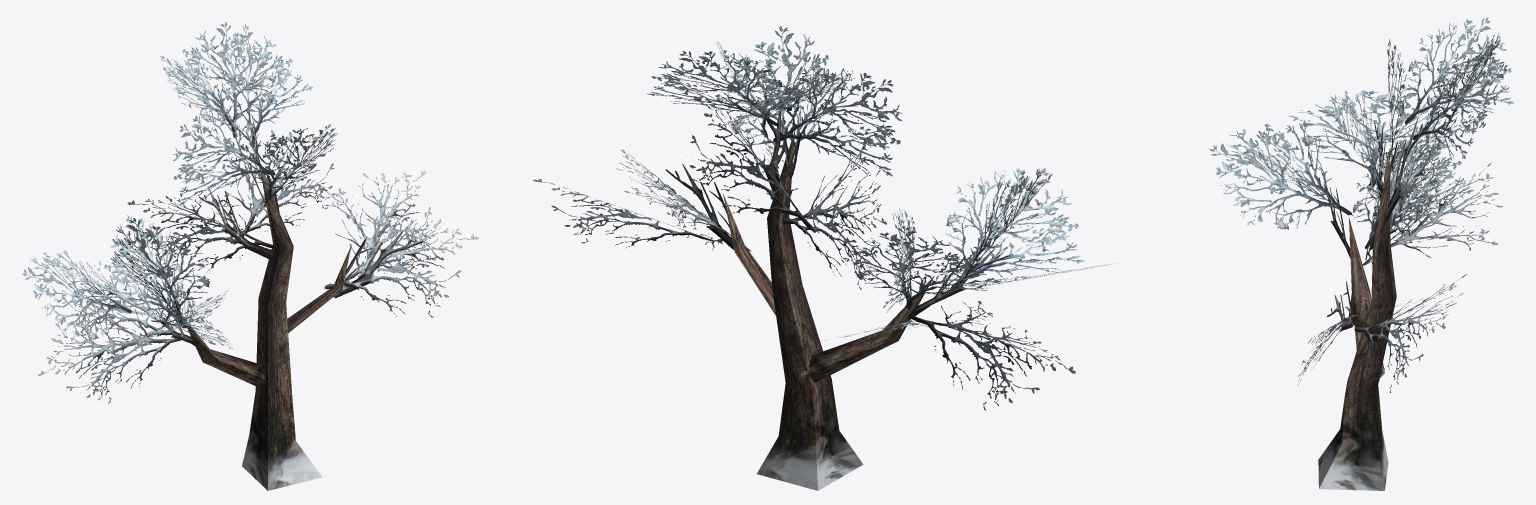
Rendered from SC103Jzhiwu_01.FBX.
3 views of the same model, side by side, from view 1: azimuth 30°, elevation 25°; view 2: azimuth 150°, elevation 25°; view 3: azimuth 270°, elevation 25° (orthographic). The views are drawn at different scales.
Parts seen in each view (by area): view 1: SC103Jzhiwu_01 (×2); view 2: SC103Jzhiwu_01 (×2); view 3: SC103Jzhiwu_01 (×2).
Part boxes in pixels (x1=…): SC103Jzhiwu_01 (×2): x1=22, y1=22, x2=478, y2=490; SC103Jzhiwu_01 (×2): x1=533, y1=26, x2=1122, y2=490; SC103Jzhiwu_01 (×2): x1=1209, y1=17, x2=1514, y2=490.
Size of the model in its own units: 1398 by 1208 by 780.
